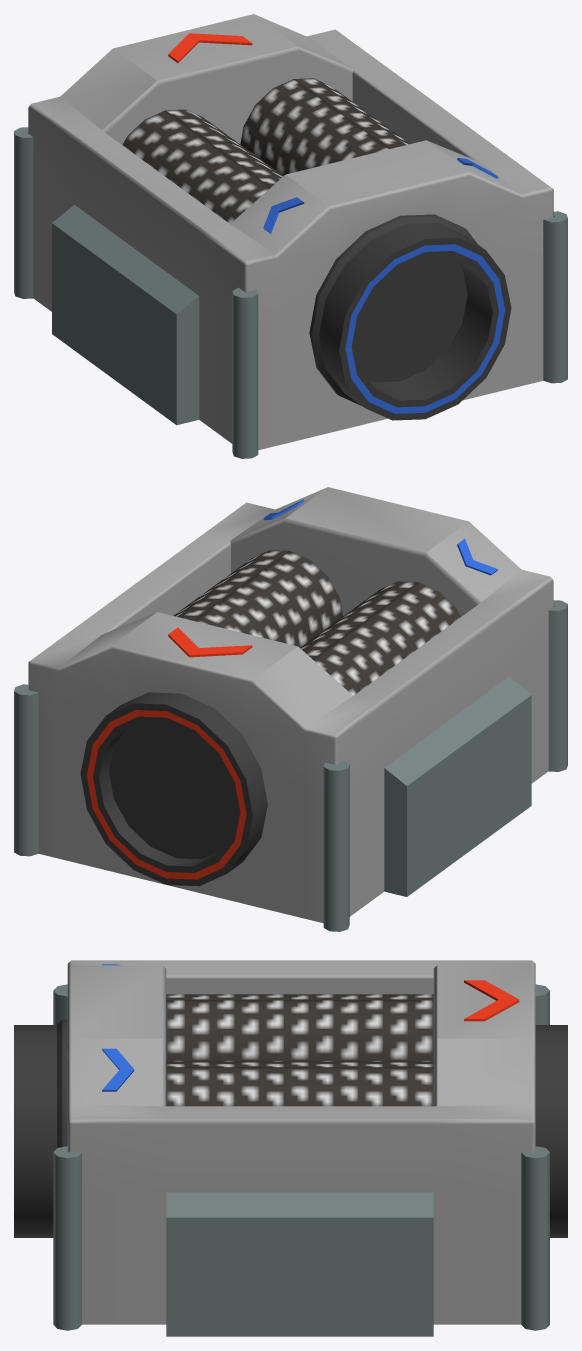
File: m_Dev_Crusher.fbx
The picture shows the model from 3 angles, top to bottom: view 1: azimuth 30°, elevation 25°; view 2: azimuth 150°, elevation 25°; view 3: azimuth 270°, elevation 25°; orthographic projection. The views are drawn at different scales.
Parts seen in each view (by area): view 1: Crusher; view 2: Crusher; view 3: Crusher.
Boxes of the visible parts, left/top/right/bottom form: Crusher: left=14, top=14, right=567, bottom=458; Crusher: left=14, top=487, right=567, bottom=931; Crusher: left=14, top=960, right=567, bottom=1336.
Bounding box in the file's own units: 79.26 × 48.63 × 100.
